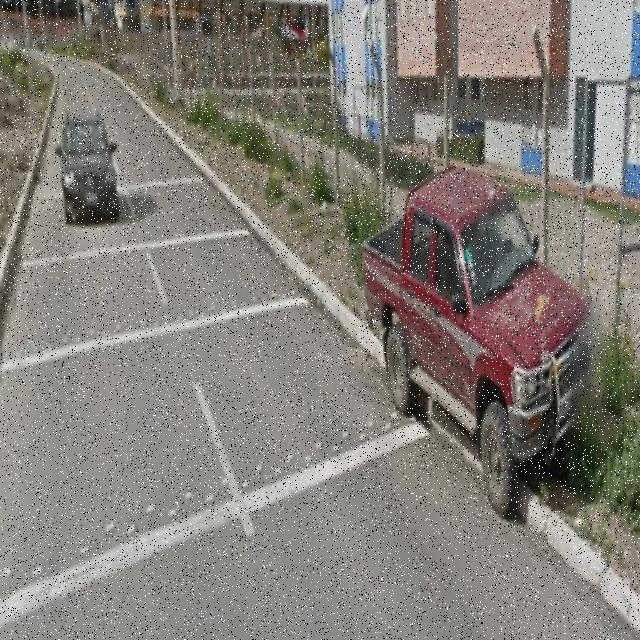cars: (348, 99, 603, 544), (59, 95, 129, 242)
